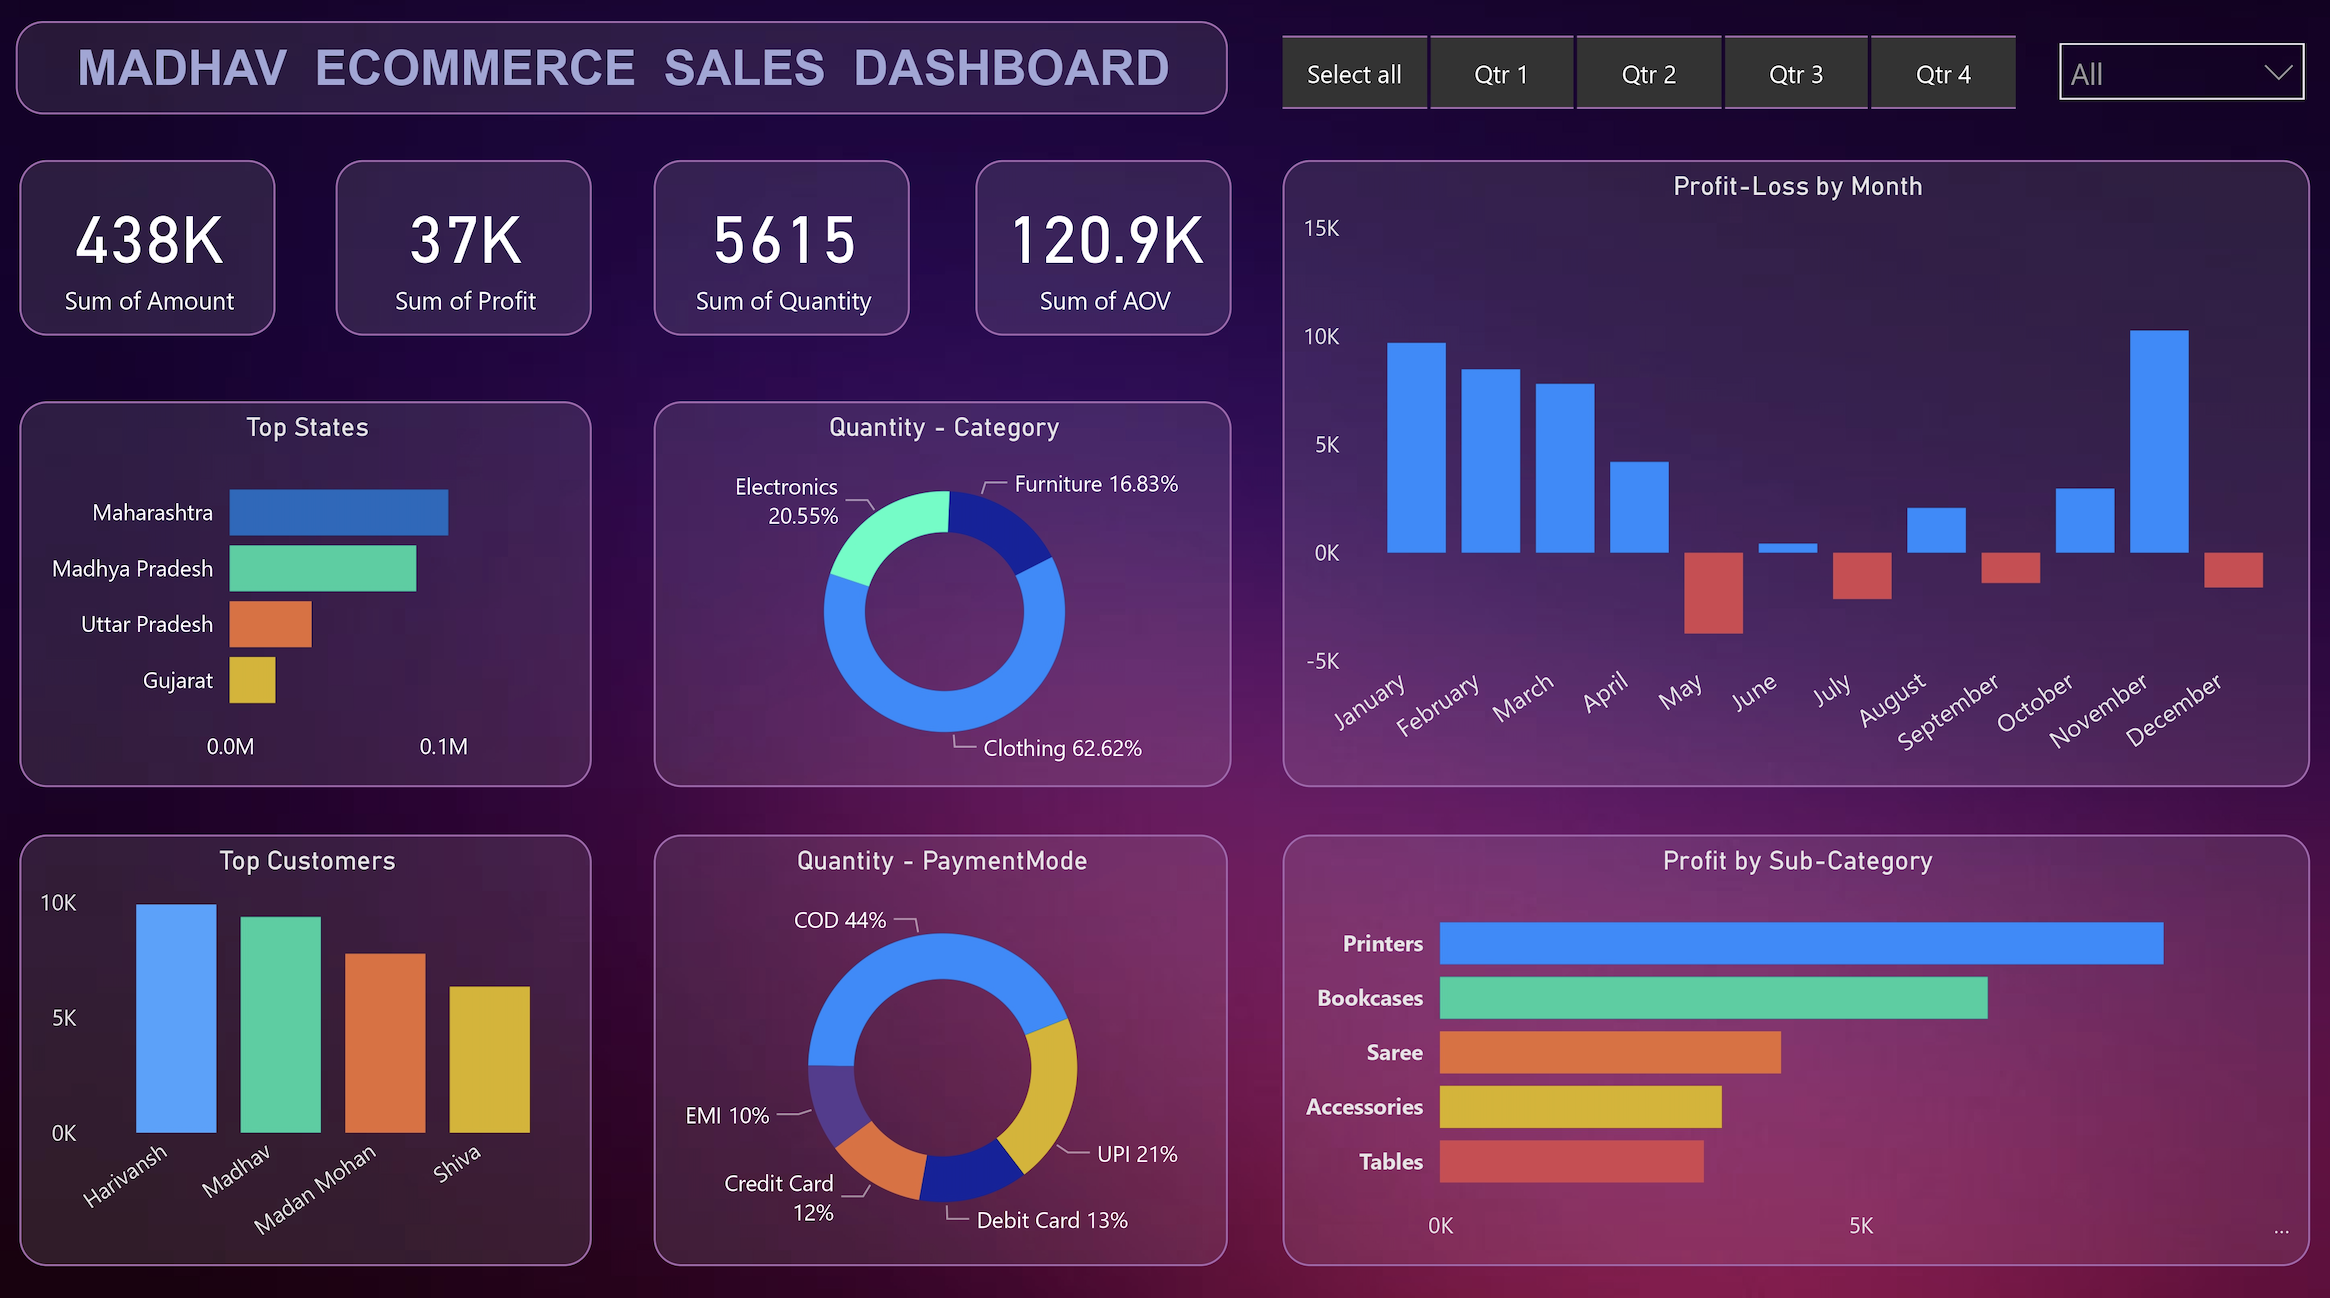

Layout of this report page (visuals, bound fields, positions):
{"tool":"powerbi","page":{"name":"Page 1","canvas":[1280,720],"ordinal":0},"visuals":[{"type":"textbox","box":[16.2,20,711.2,61.2],"z":0},{"type":"columnChart","title":"Profit - loss by Month","fields":{"Category":["Orders.Order Date.Variation.Date Hierarchy.Month"],"Y":["Details.Profit"]},"box":[702.5,108.8,558.8,295],"z":1000},{"type":"barChart","title":"Profit by Sub-Category","fields":{"Y":["Details.Profit"],"Category":["Details.Sub-Category"]},"box":[710,412.5,542.5,287.5],"z":2000},{"type":"donutChart","title":"Quantity - category","fields":{"Category":["Details.Category"],"Y":["Details.Quantity"]},"box":[382.5,198.8,310,280],"z":3000},{"type":"donutChart","title":"Quantity - PaymentMode","fields":{"Category":["Details.PaymentMode","Details.Category"],"Y":["Details.Quantity"]},"box":[382.5,487.5,310,222.5],"z":4000},{"type":"card","fields":{"Values":["Details.Amount"]},"box":[37.5,90,142.5,98.8],"z":5000},{"type":"card","fields":{"Values":["Details.Quantity"]},"box":[362.5,88.8,151.2,98.8],"z":6000},{"type":"card","fields":{"Values":["Details.AOV"]},"box":[537.5,88.8,148.8,98.8],"z":7000},{"type":"card","fields":{"Values":["Details.Profit"]},"box":[190,90,147.5,98.8],"z":8000},{"type":"barChart","title":"Top States","fields":{"Y":["Details.Amount"],"Category":["Orders.State"]},"box":[16.2,198.8,346.2,280],"z":9000},{"type":"columnChart","title":"Top Customers","fields":{"Category":["Orders.CustomerName"],"Y":["Details.Amount"]},"box":[20,487.5,342.5,222.5],"z":10000},{"type":"slicer","fields":{"Values":["Orders.State"]},"box":[1129.8,10.7,150,78.6],"z":11000},{"type":"slicer","title":"Quarter","fields":{"Values":["Orders.Order Date.Variation.Date Hierarchy.Quarter"]},"box":[702.5,11.2,416.2,78.8],"z":12000}]}

Visuals, with their boxes in screenshot pixels (x1, y1, x2, y2), scaled from the page's 1280x720 canvas onto the 2330x1298 screenshot:
textbox: box=[29, 36, 1324, 146]
"Profit - loss by Month" columnChart: box=[1279, 196, 2296, 728]
"Profit by Sub-Category" barChart: box=[1292, 744, 2280, 1262]
"Quantity - category" donutChart: box=[696, 358, 1261, 863]
"Quantity - PaymentMode" donutChart: box=[696, 879, 1261, 1280]
card - Details.Amount: box=[68, 162, 328, 340]
card - Details.Quantity: box=[660, 160, 935, 338]
card - Details.AOV: box=[978, 160, 1249, 338]
card - Details.Profit: box=[346, 162, 614, 340]
"Top States" barChart: box=[29, 358, 660, 863]
"Top Customers" columnChart: box=[36, 879, 660, 1280]
slicer - Orders.State: box=[2057, 19, 2329, 161]
"Quarter" slicer: box=[1279, 20, 2036, 162]
